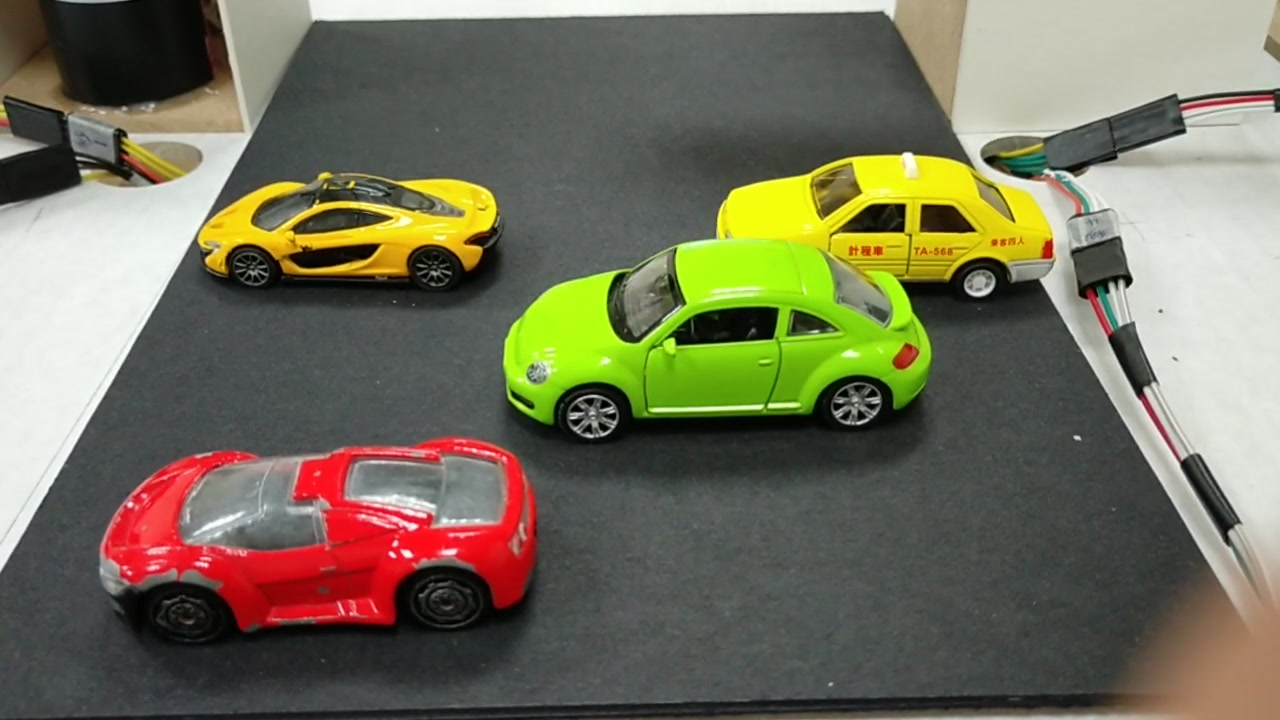car: (107, 442, 528, 641), (507, 259, 925, 422), (724, 159, 1049, 283), (195, 183, 499, 295)
